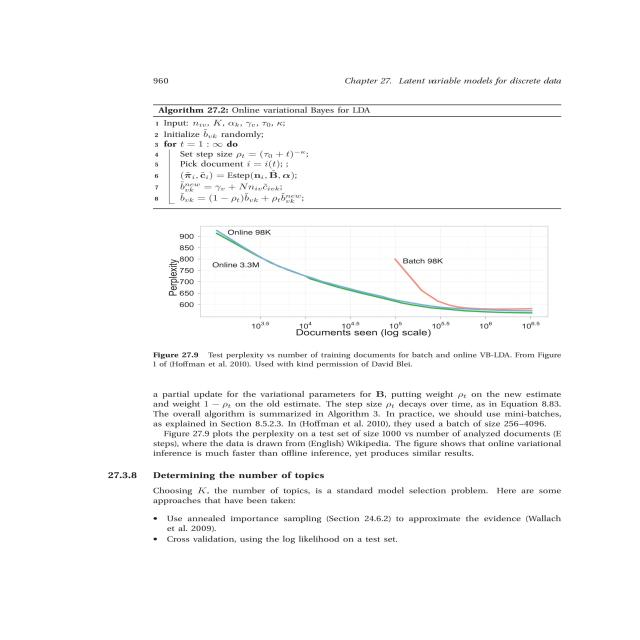diagram: (130, 212, 640, 387)
